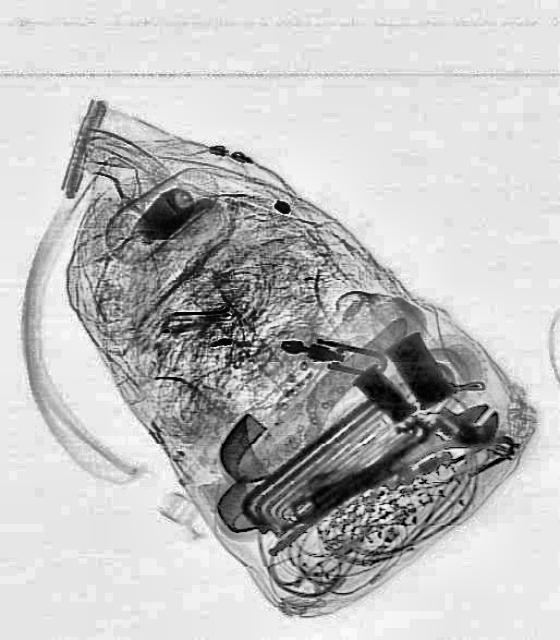Wrench: (281, 382, 510, 540)
